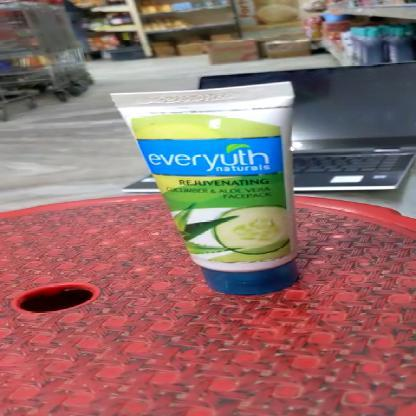EY RJ CUCUMBER ALOEVERA FACEPAK50G: (118, 83, 300, 294)
